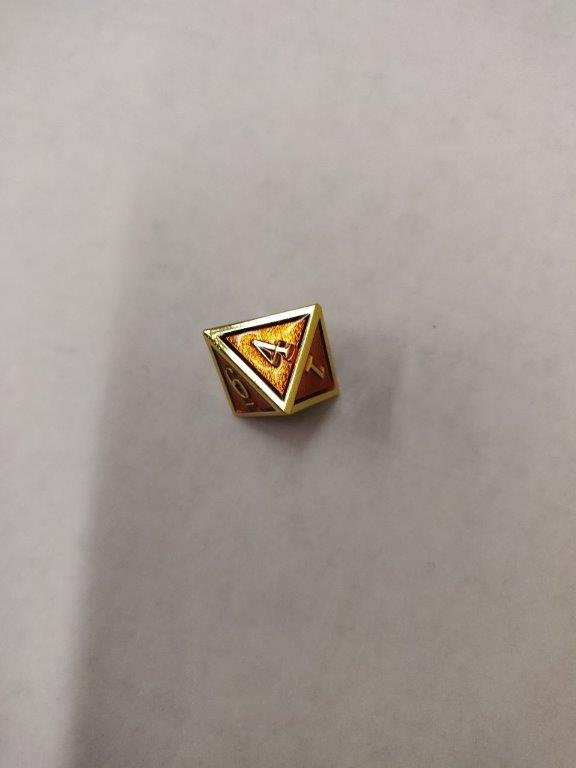d8-4: (201, 304, 340, 422)
